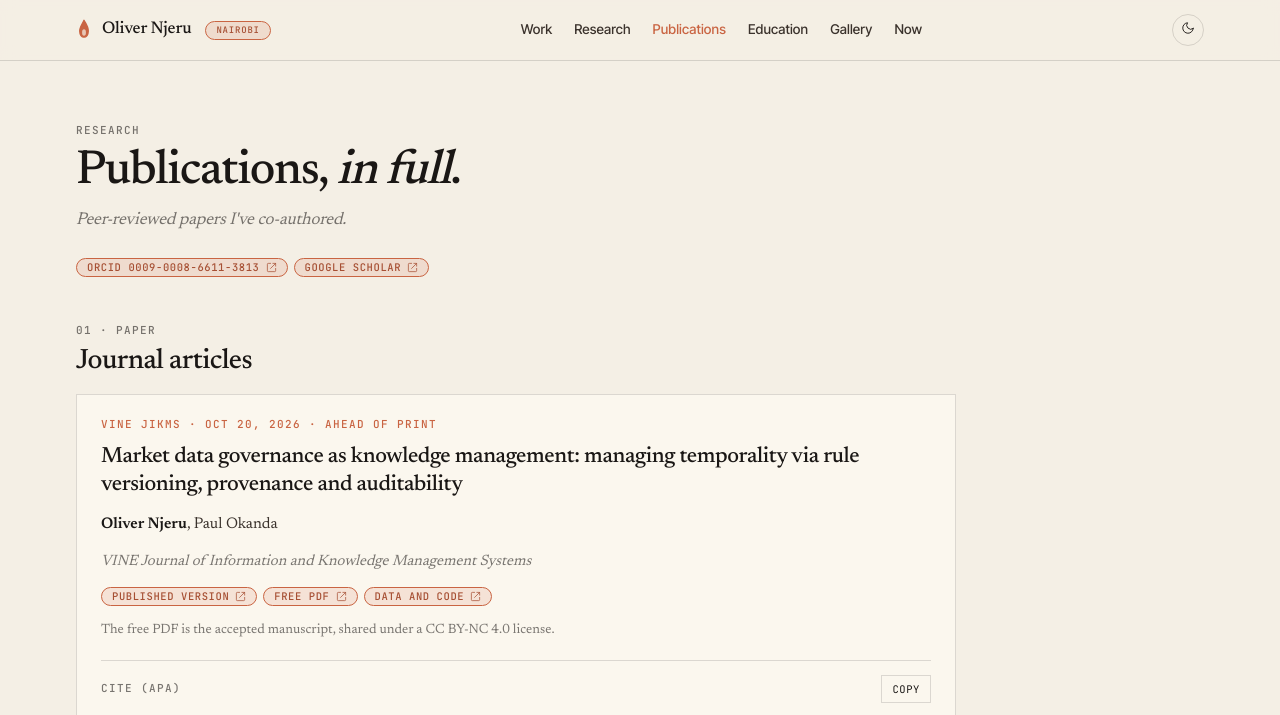
PublicationsPage › copies the plain-text citation
This screenshot has width=1280, height=715.
Click the button "Copy": (906, 689) 881,675 -> 931,703
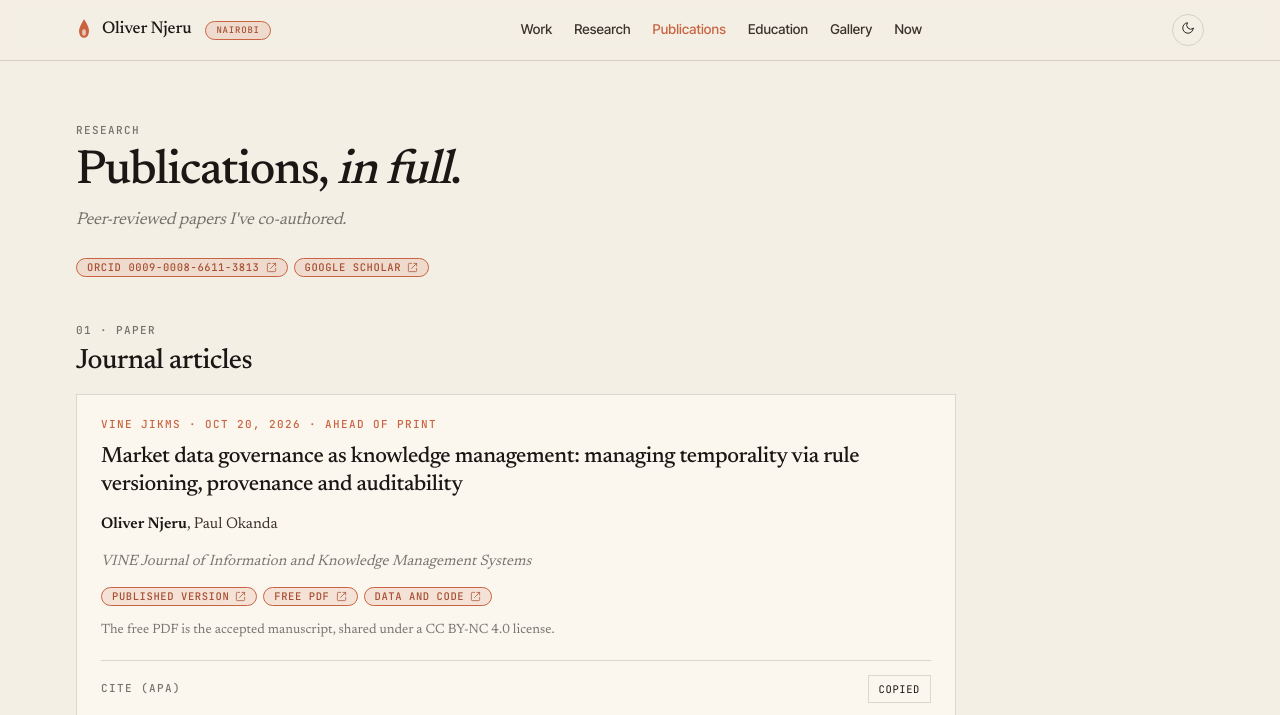
Expected: the button "Copied" is shown, 868,675 -> 931,703
